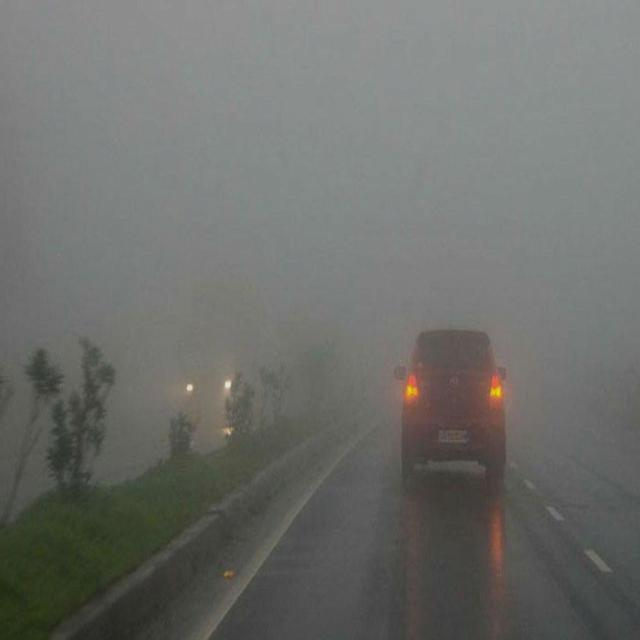Car: (399, 281, 511, 493), (180, 333, 247, 426)
